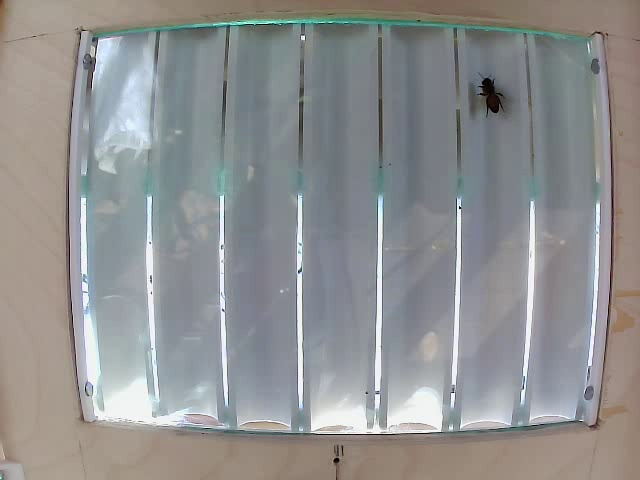bee: (478, 71, 508, 127)
